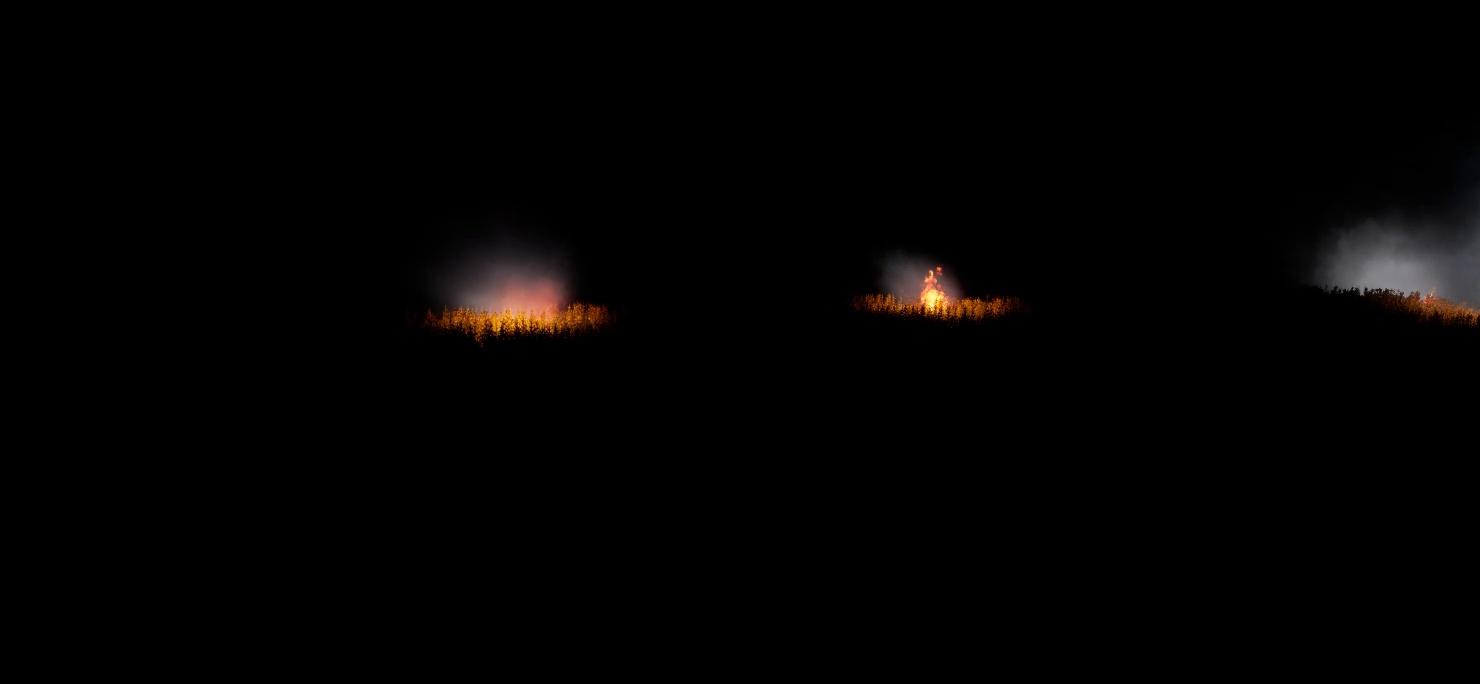fire: (918, 265, 942, 309)
smoke: (1318, 213, 1479, 303), (448, 260, 581, 318), (884, 259, 966, 307)
